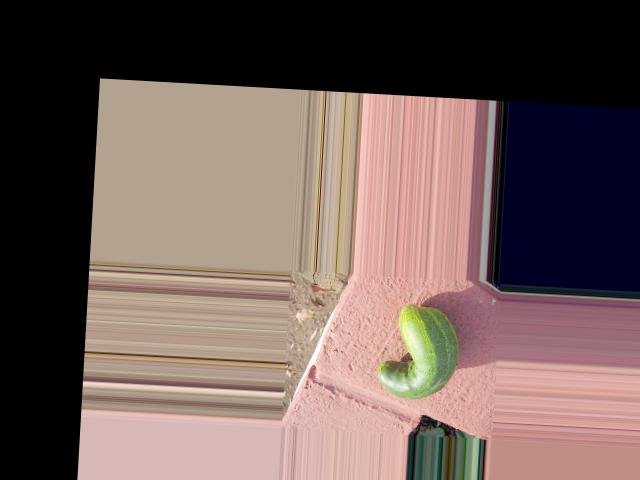cucumber: (374, 302, 460, 401)
